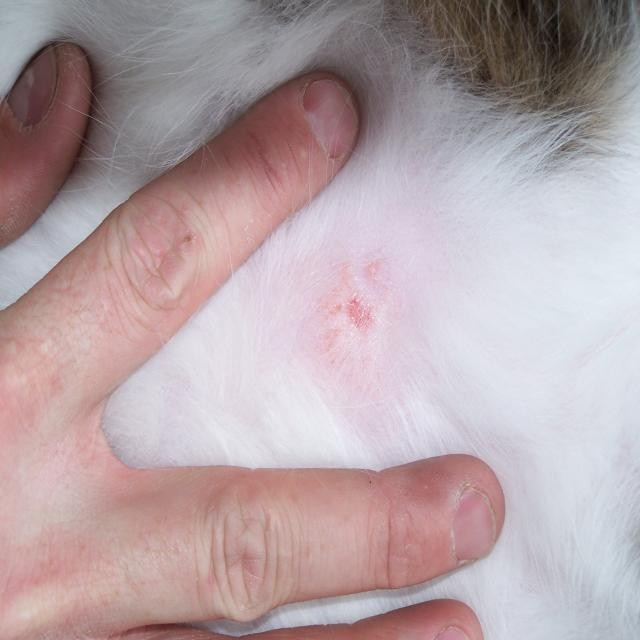hac lao: (250, 206, 466, 422)
